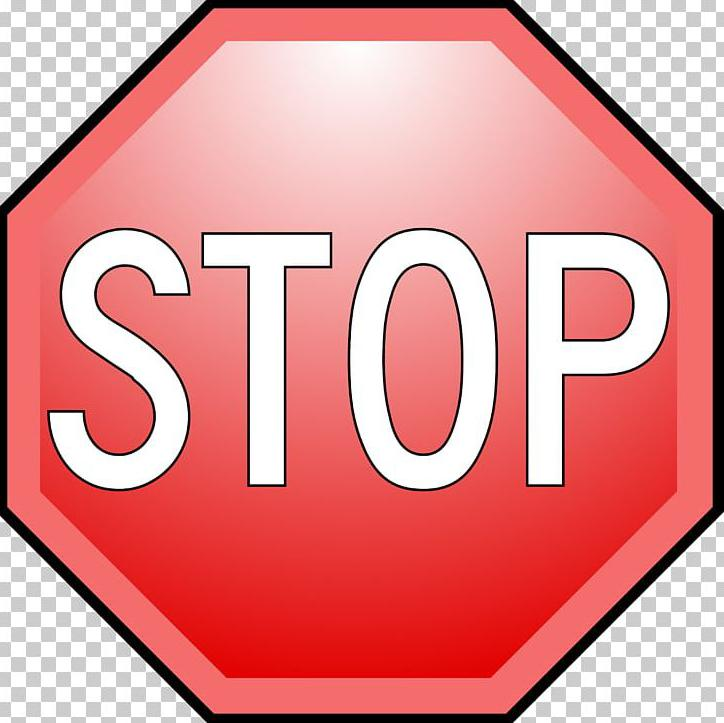Stop sign: (0, 0, 723, 722)
